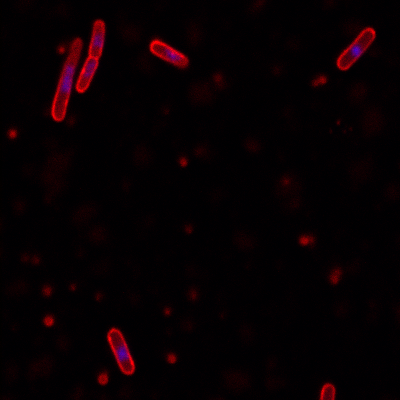Nalidixate: (74, 19, 106, 94), (336, 28, 376, 71), (107, 328, 136, 376)
Oblique: (49, 36, 82, 122), (149, 39, 189, 70)
Vesicle: (330, 267, 342, 285), (299, 235, 315, 247), (312, 76, 326, 87), (97, 373, 108, 385), (6, 129, 17, 140), (165, 353, 176, 364), (177, 157, 187, 168), (56, 45, 66, 55), (43, 316, 53, 326), (42, 286, 52, 296)
